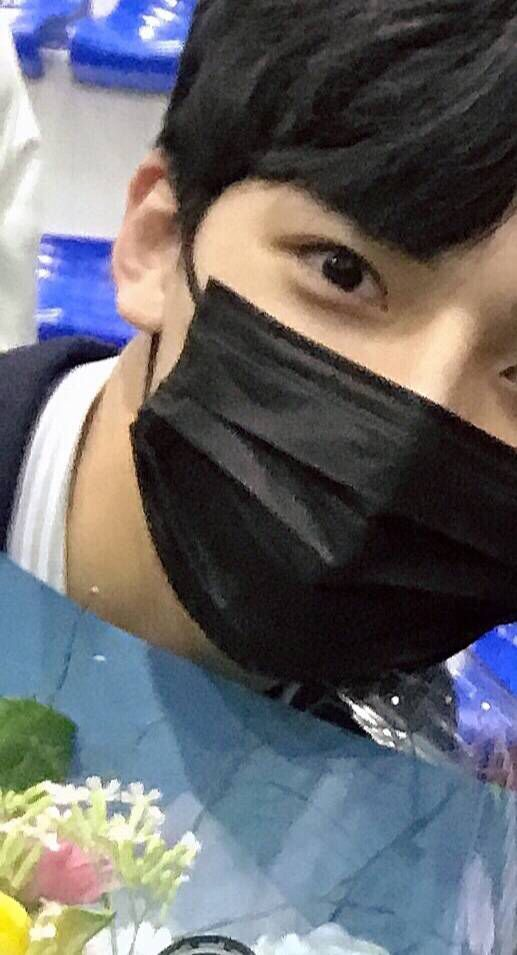person: (21, 19, 517, 699)
